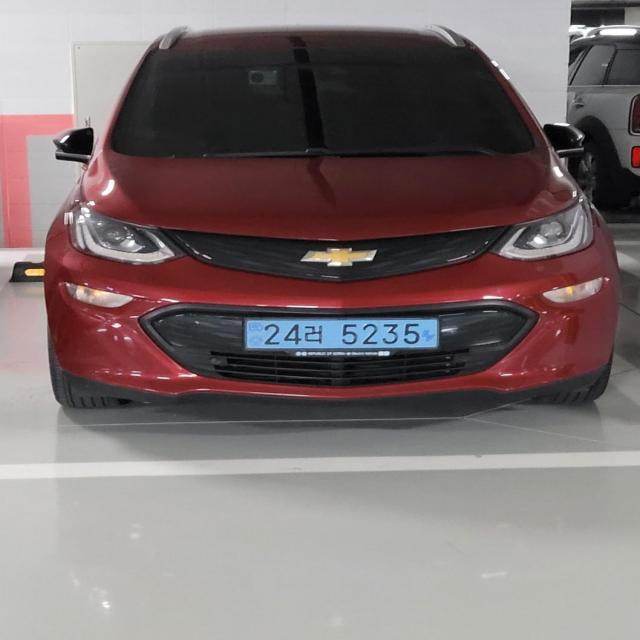EV_plate: (244, 307, 445, 363)
car: (40, 19, 625, 418)
